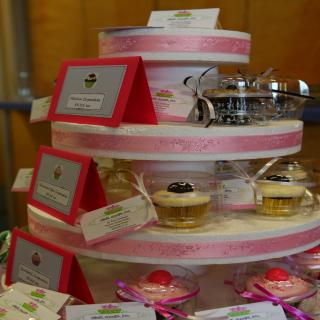Cake: (0, 27, 320, 320)
